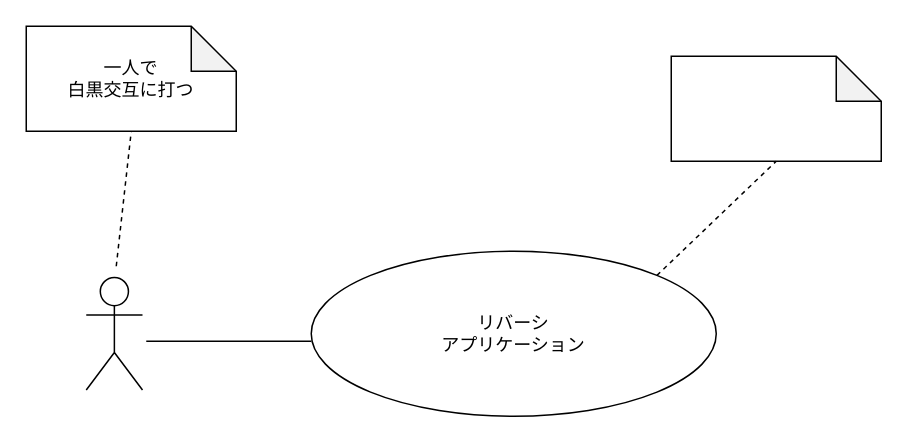
Image size: 908x447. Some labels were removed from this diagram. The box of each missing label's shape, as (x1, y1, x2, y2) in pixels:
Webアプリ: (670, 55, 881, 161)
プレイヤー: (85, 276, 142, 390)
